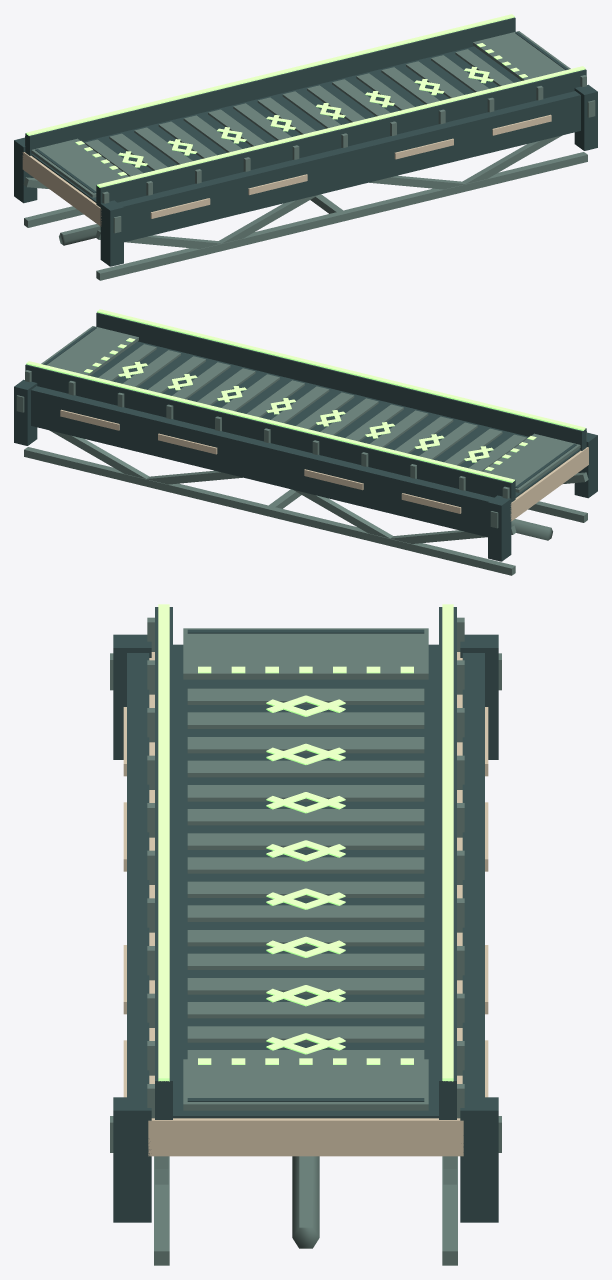
The model's file is Deck_Conveyor_Belt_v4_10.glb.
The picture shows the model from 3 angles, top to bottom: view 1: azimuth 30°, elevation 25°; view 2: azimuth 150°, elevation 25°; view 3: azimuth 270°, elevation 25°; orthographic projection. The views are drawn at different scales.
Parts seen in each view (by area): view 1: Deck_Conveyor_Belt_v4_10, Treads, TreadsRev; view 2: Deck_Conveyor_Belt_v4_10, Treads, TreadsRev; view 3: Deck_Conveyor_Belt_v4_10, Treads, TreadsRev.
Part boxes in pixels (x1=…): Deck_Conveyor_Belt_v4_10: x1=14, y1=14, x2=597, y2=280; Treads: x1=86, y1=49, x2=513, y2=175; TreadsRev: x1=85, y1=50, x2=513, y2=176; Deck_Conveyor_Belt_v4_10: x1=14, y1=309, x2=597, y2=575; Treads: x1=98, y1=344, x2=525, y2=470; TreadsRev: x1=99, y1=344, x2=526, y2=471; Deck_Conveyor_Belt_v4_10: x1=110, y1=604, x2=501, y2=1265; Treads: x1=187, y1=688, x2=424, y2=1059; TreadsRev: x1=187, y1=689, x2=424, y2=1059.
Size of the model in its own units: 10.04 by 1.83 by 3.48.
